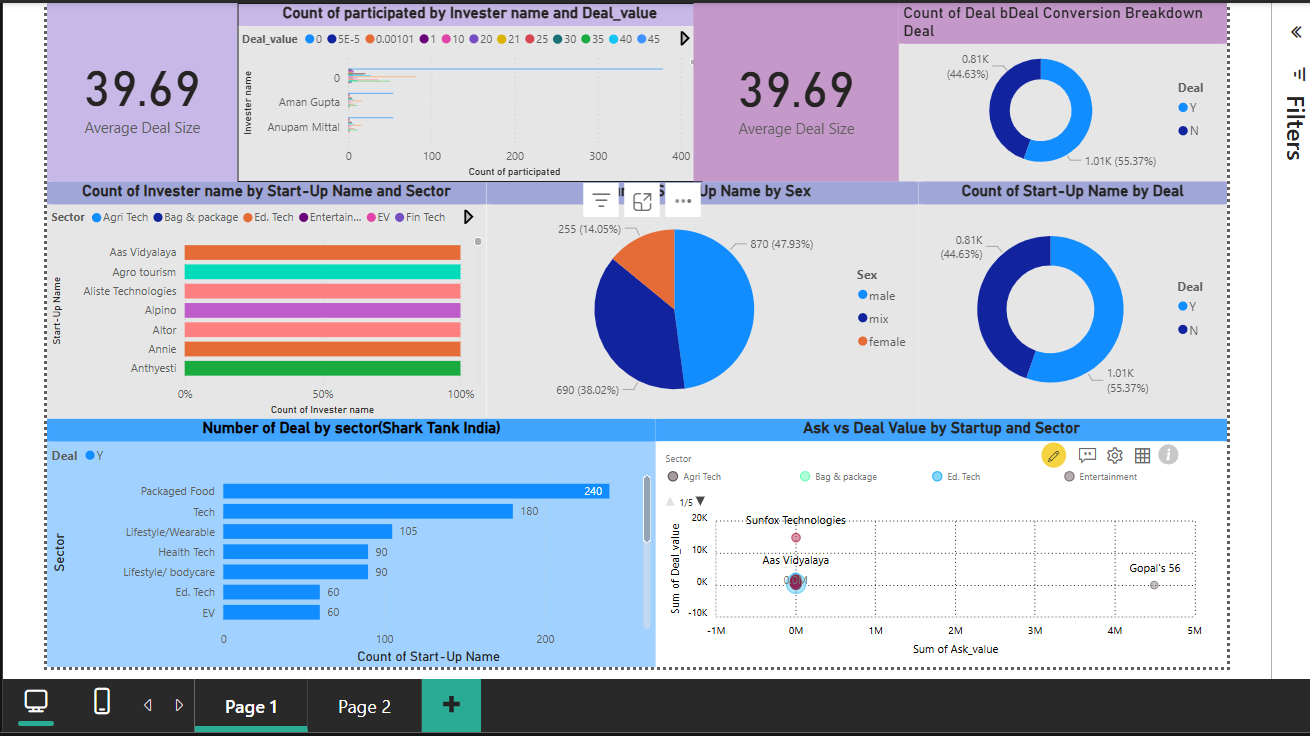

The page's visual inventory and layout, read from the dashboard file:
{"tool":"powerbi","page":{"name":"Page 1","canvas":[1280,720],"ordinal":0},"visuals":[{"type":"clusteredBarChart","title":"Number of Deal by sector(Shark Tank India)","fields":{"Category":["shark tank 121 pitches.Sector"],"Y":["shark tank 121 pitches.Start-Up Name"],"Series":["shark tank 121 pitches.Deal"]},"box":[0,450.4,659.9,270.2],"z":0},{"type":"performanceBubbleChartFBAAA829CB604E5CAB4F21729F233294","title":"Ask vs Deal Value by Startup and Sector","fields":{"xmeasure":["shark tank 121 pitches.Ask_value"],"ymeasure":["shark tank 121 pitches.Deal_value"],"legend":["shark tank 121 pitches.Sector"],"category":["shark tank 121 pitches.Start-Up Name"],"zmeasure":["shark tank 121 pitches.Deal_% of Equity "],"tmeasure":["shark tank 121 pitches.Start-Up Name"]},"box":[659.9,450.4,619.5,270.2],"z":1000},{"type":"hundredPercentStackedBarChart","fields":{"Y":["shark tank 121 pitches.Invester name"],"Category":["shark tank 121 pitches.Start-Up Name"],"Series":["shark tank 121 pitches.Sector"]},"box":[0,193,476.1,257.3],"z":2000},{"type":"pieChart","fields":{"Y":["shark tank 121 pitches.Start-Up Name"],"Category":["shark tank 121 pitches.Sex"]},"box":[476.1,193,468.7,257.3],"z":3000},{"type":"donutChart","fields":{"Category":["shark tank 121 pitches.Deal"],"Y":["shark tank 121 pitches.Start-Up Name"]},"box":[944.8,193,334.6,257.3],"z":4000},{"type":"card","fields":{"Values":["shark tank 121 pitches.Average Deal Size"]},"box":[0,0,206.6,193.6],"z":5000},{"type":"clusteredBarChart","fields":{"Y":["shark tank 121 pitches.participated"],"Category":["shark tank 121 pitches.Invester name"],"Series":["shark tank 121 pitches.Deal_value"]},"box":[206.6,0,504.2,193.6],"z":6000},{"type":"card","fields":{"Values":["shark tank 121 pitches.Average Deal Size"]},"box":[701,0,222.8,193.6],"z":7000},{"type":"donutChart","title":"Count of Deal bDeal Conversion Breakdown Deal","fields":{"Category":["shark tank 121 pitches.Deal"],"Y":["shark tank 121 pitches.Deal"]},"box":[923.9,0,356.2,193.6],"z":8000}]}

Visuals, with their boxes on the page's 1280x720 design canvas (x1, y1, x2, y2). These are canvas units, not pixel positions in the 1310x736 screenshot, which may show the page scaled, cropped or inside an application window:
"Number of Deal by sector(Shark Tank India)" clusteredBarChart: box(0, 450, 660, 721)
"Ask vs Deal Value by Startup and Sector" performanceBubbleChartFBAAA829CB604E5CAB4F21729F233294: box(660, 450, 1279, 721)
hundredPercentStackedBarChart - shark tank 121 pitches.Invester name x shark tank 121 pitches.Start-Up Name: box(0, 193, 476, 450)
pieChart - shark tank 121 pitches.Start-Up Name x shark tank 121 pitches.Sex: box(476, 193, 945, 450)
donutChart - shark tank 121 pitches.Deal x shark tank 121 pitches.Start-Up Name: box(945, 193, 1279, 450)
card - shark tank 121 pitches.Average Deal Size: box(0, 0, 207, 194)
clusteredBarChart - shark tank 121 pitches.participated x shark tank 121 pitches.Invester name: box(207, 0, 711, 194)
card - shark tank 121 pitches.Average Deal Size: box(701, 0, 924, 194)
"Count of Deal bDeal Conversion Breakdown Deal" donutChart: box(924, 0, 1280, 194)
